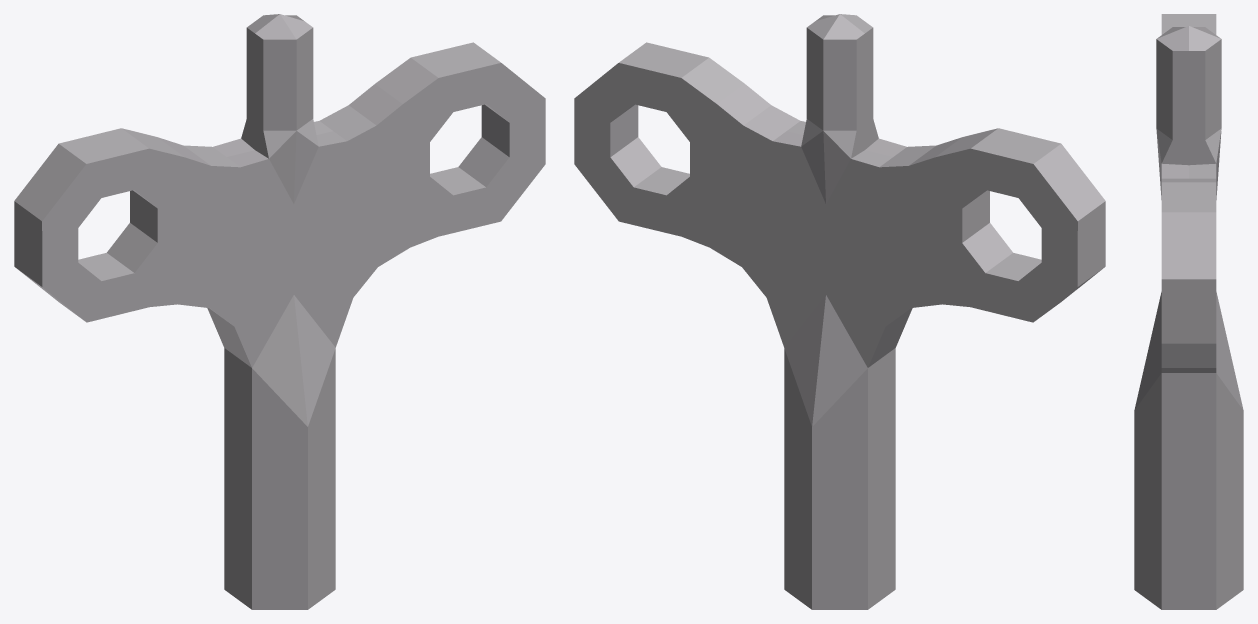
File: key.fbx
3 views of the same model, side by side, from view 1: azimuth 30°, elevation 25°; view 2: azimuth 150°, elevation 25°; view 3: azimuth 270°, elevation 25° (orthographic). The views are drawn at different scales.
Parts seen in each view (by area): view 1: key; view 2: key; view 3: key.
Part boxes in pixels (x1,y1,x2,y2): key: (14, 14, 545, 609); key: (574, 14, 1105, 609); key: (1134, 14, 1243, 609).
Size of the model in its own units: 1.38 by 1.51 by 0.2656.
